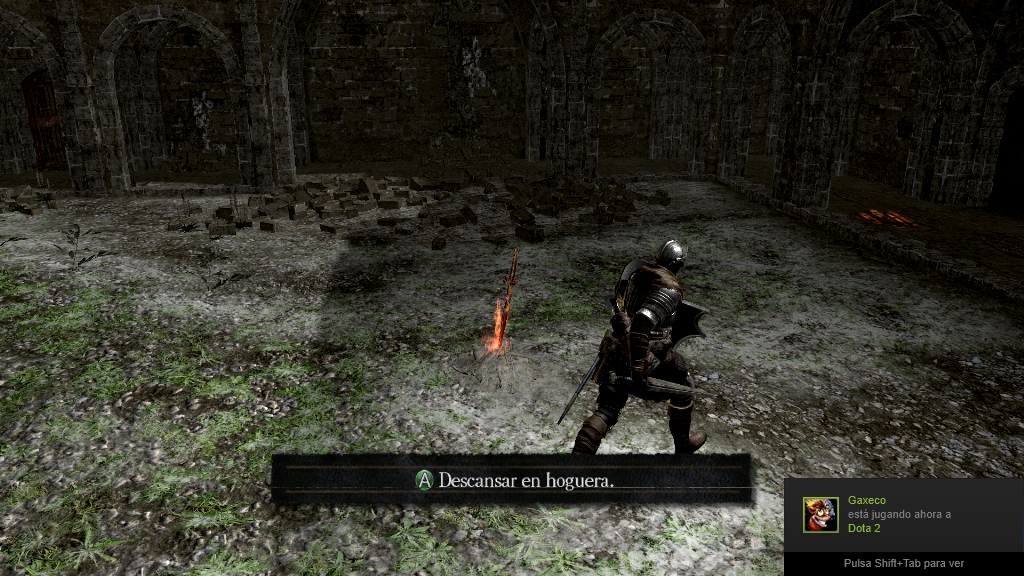bonfire: (475, 245, 527, 370)
dialogBox: (271, 454, 753, 506)
player: (569, 238, 714, 454)
